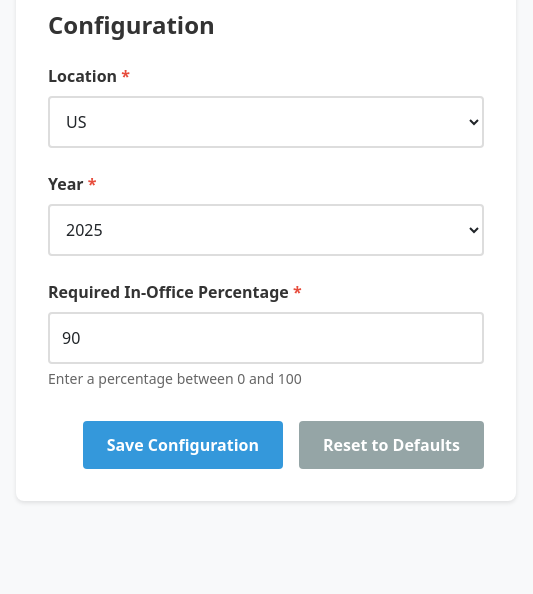
Test case: ConfigurationForm › Reset Functionality › resets configuration to defaults when reset button is clicked
Click reset
Step 1. Click the button "Reset to Defaults" → (392, 445), box [299,421,484,469]
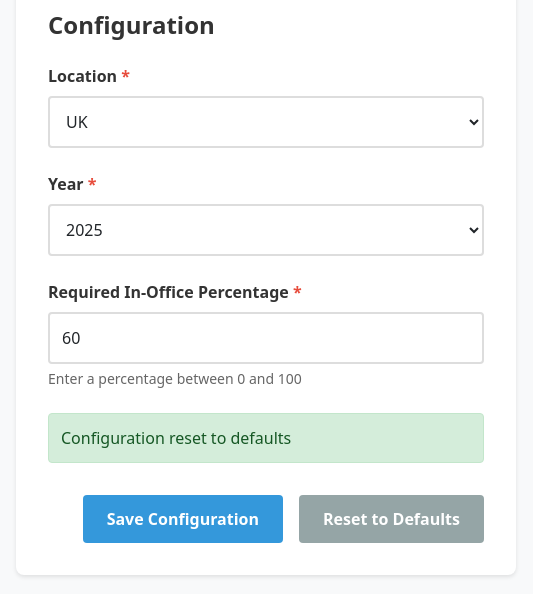
expect the text "Configuration reset to defaults" is shown: met, box [48,413,484,463]
expect the dropdown showing "UK" is shown: met, box [48,96,484,148]
expect the number field showing "60" is shown: met, box [48,312,484,364]
